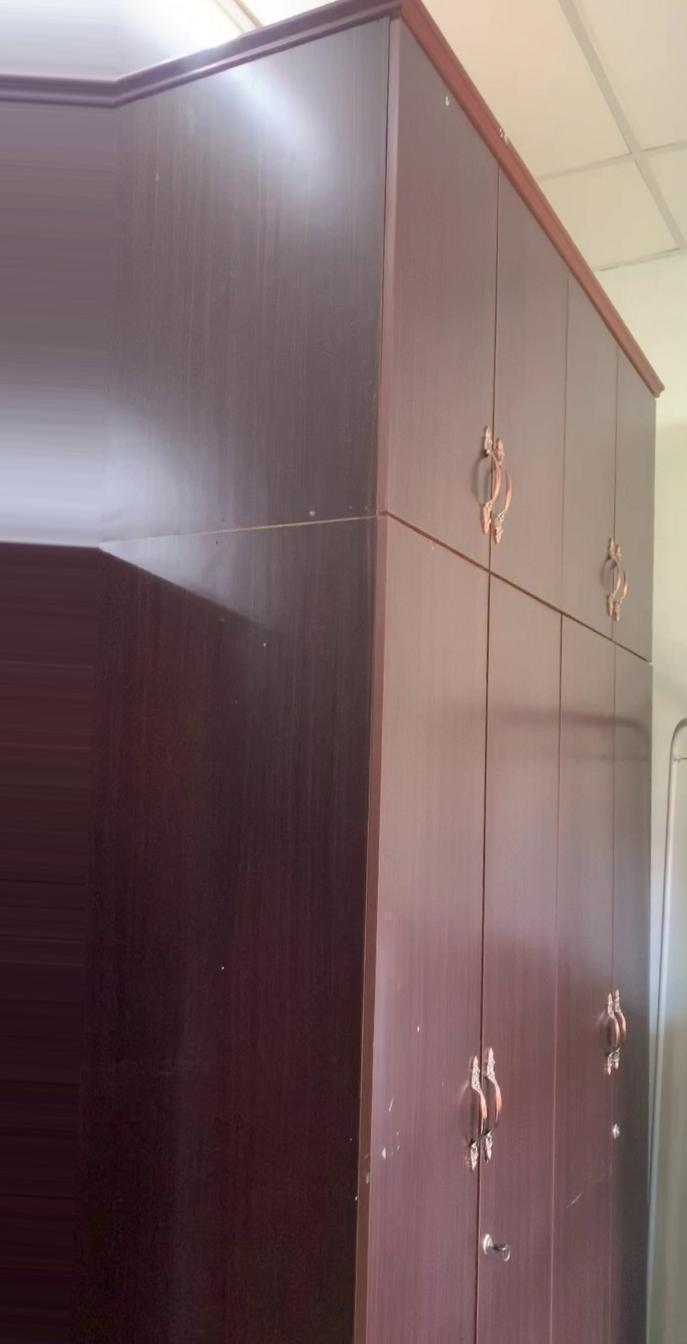Armario: (14, 13, 668, 1335)
